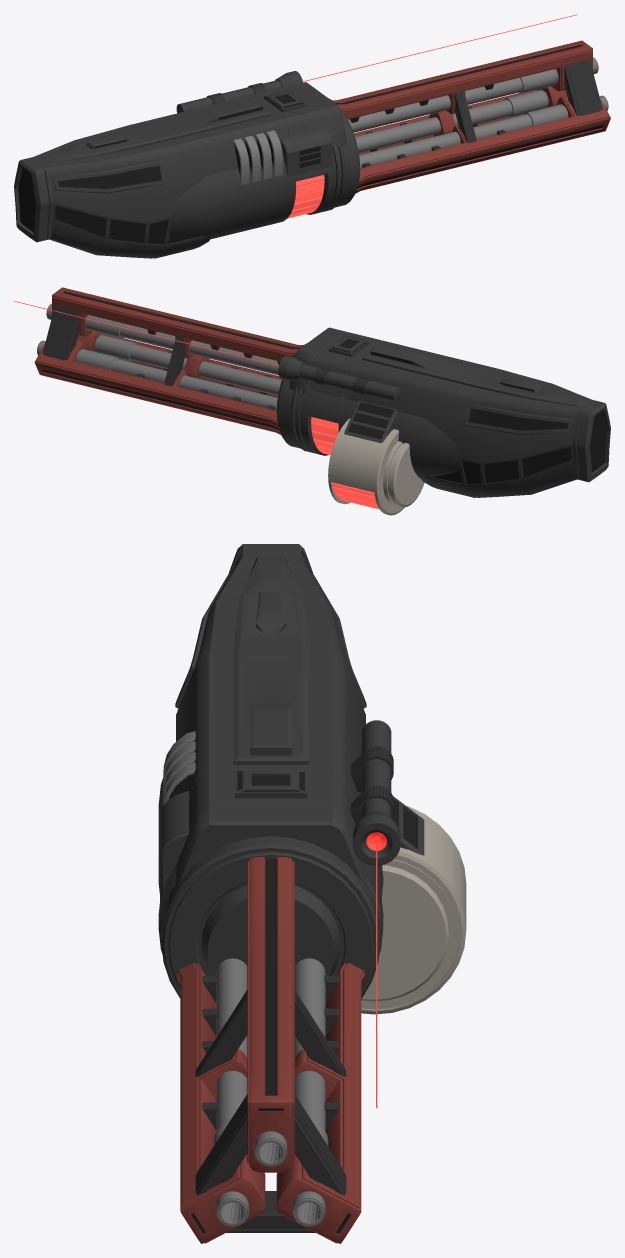
The model's file is minigun.fbx.
3 renders of one model, top to bottom at view 1: azimuth 30°, elevation 25°; view 2: azimuth 150°, elevation 25°; view 3: azimuth 270°, elevation 25°, orthographic. The views are drawn at different scales.
Visible parts, largest first — view 1: Cube.032, Cylinder, Cube.017, Cube.023, Cylinder.003, Cylinder.007, Cylinder.006, Cube.035, Cube.025, Cylinder.001, Cube, Cube.024 (+4 smaller); view 2: Cube.032, Cylinder, Cylinder.012, Cube, Cube.023, Cylinder.006, Cylinder.007, Cylinder.003, Cylinder.001, Cube.028, Cube.018, Cube.017 (+1 smaller); view 3: Cube.032, Cylinder, Cube.023, Cylinder.012, Cube, Cube.017, Cylinder.001, Cylinder.003, Cylinder.006, Cube.025, Cube.018, Cube.035 (+5 smaller).
Part boxes in pixels (bbox=[...]): Cube.032: bbox=[14, 82, 346, 258]; Cylinder: bbox=[169, 99, 360, 239]; Cube.017: bbox=[355, 95, 610, 193]; Cube.023: bbox=[332, 40, 592, 119]; Cylinder.003: bbox=[355, 89, 548, 152]; Cylinder.007: bbox=[348, 57, 598, 132]; Cylinder.006: bbox=[359, 95, 608, 168]; Cube.035: bbox=[280, 128, 332, 176]; Cube.025: bbox=[564, 59, 602, 115]; Cylinder.001: bbox=[176, 14, 577, 113]; Cube: bbox=[354, 86, 566, 154]; Cube.024: bbox=[454, 90, 476, 143]; Cube.032: bbox=[289, 327, 610, 497]; Cylinder: bbox=[276, 343, 460, 478]; Cylinder.012: bbox=[328, 418, 424, 515]; Cube: bbox=[34, 340, 280, 434]; Cube.023: bbox=[52, 287, 303, 361]; Cylinder.006: bbox=[95, 335, 281, 395]; Cylinder.007: bbox=[46, 303, 278, 375]; Cylinder.003: bbox=[37, 340, 277, 410]; Cylinder.001: bbox=[14, 301, 400, 401]; Cube.028: bbox=[344, 400, 397, 443]; Cube.018: bbox=[42, 306, 79, 360]; Cube.017: bbox=[77, 331, 281, 397]; Cube.032: bbox=[175, 544, 366, 886]; Cylinder: bbox=[158, 778, 383, 998]; Cube.023: bbox=[247, 857, 294, 1172]; Cylinder.012: bbox=[361, 806, 466, 1014]; Cube: bbox=[276, 963, 365, 1243]; Cube.017: bbox=[176, 963, 265, 1243]; Cylinder.001: bbox=[353, 720, 400, 1108]; Cylinder.003: bbox=[293, 958, 328, 1226]; Cylinder.006: bbox=[213, 958, 248, 1226]; Cube.025: bbox=[195, 1094, 247, 1195]; Cube.018: bbox=[294, 1094, 346, 1195]; Cube.035: bbox=[161, 791, 189, 895].
Bounding box in the file's own units: 4608 × 1059 × 1097.
